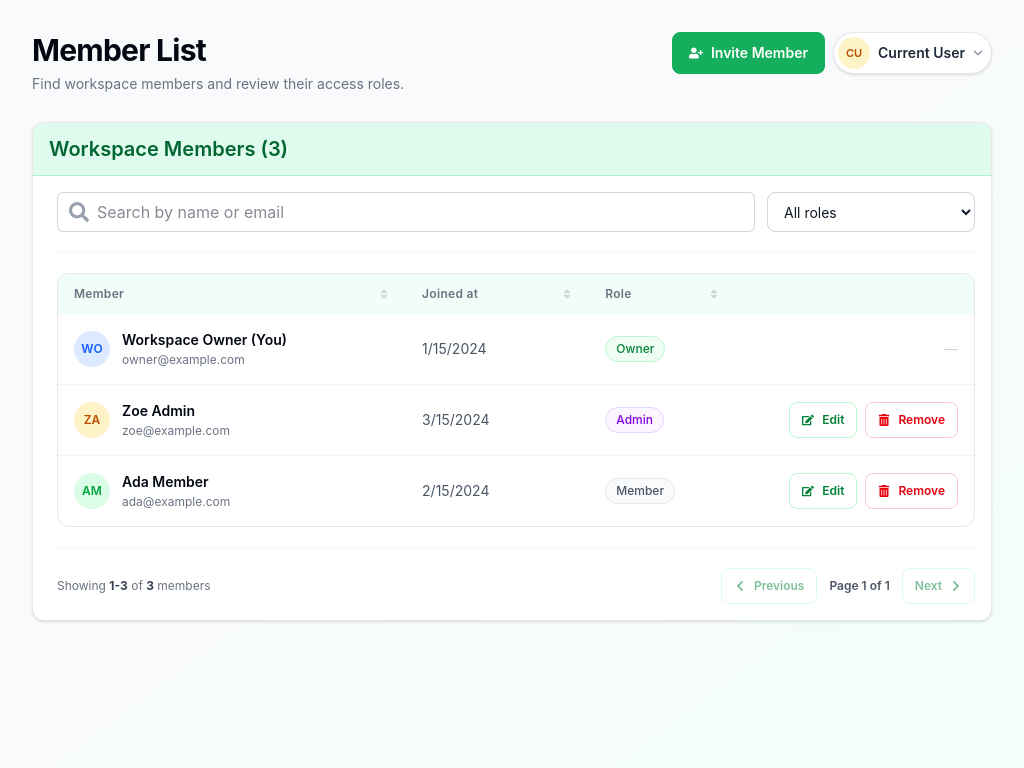
Test: Workspace members page › updates a member role, reports success, and refreshes the member list
Expected: the number of rows is 4, [58,274,974,314]; [58,314,974,384]; [58,384,974,456]; [58,456,974,526]
Click the button "Edit" in the row of "ZA" at (823, 420), box [789,402,857,438]
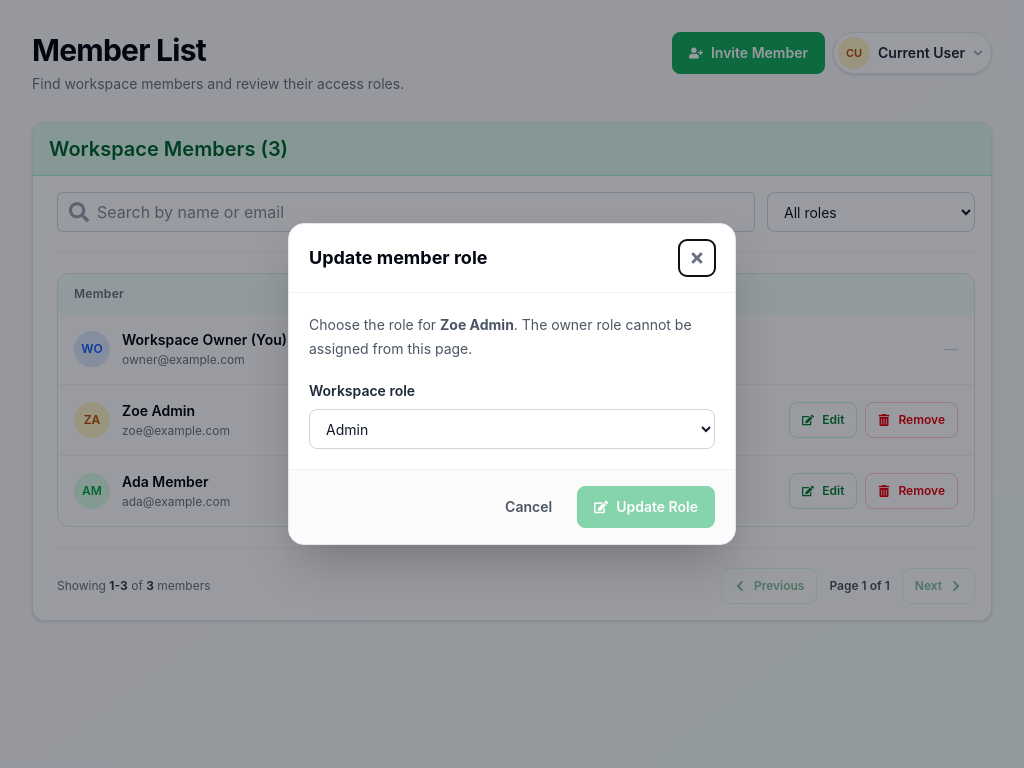
Expected: the button "Update Role" is disabled, [577,486,715,528]
Select "Member" in the dropdown labelled "Workspace role" at (512, 429), box [309,409,715,449]
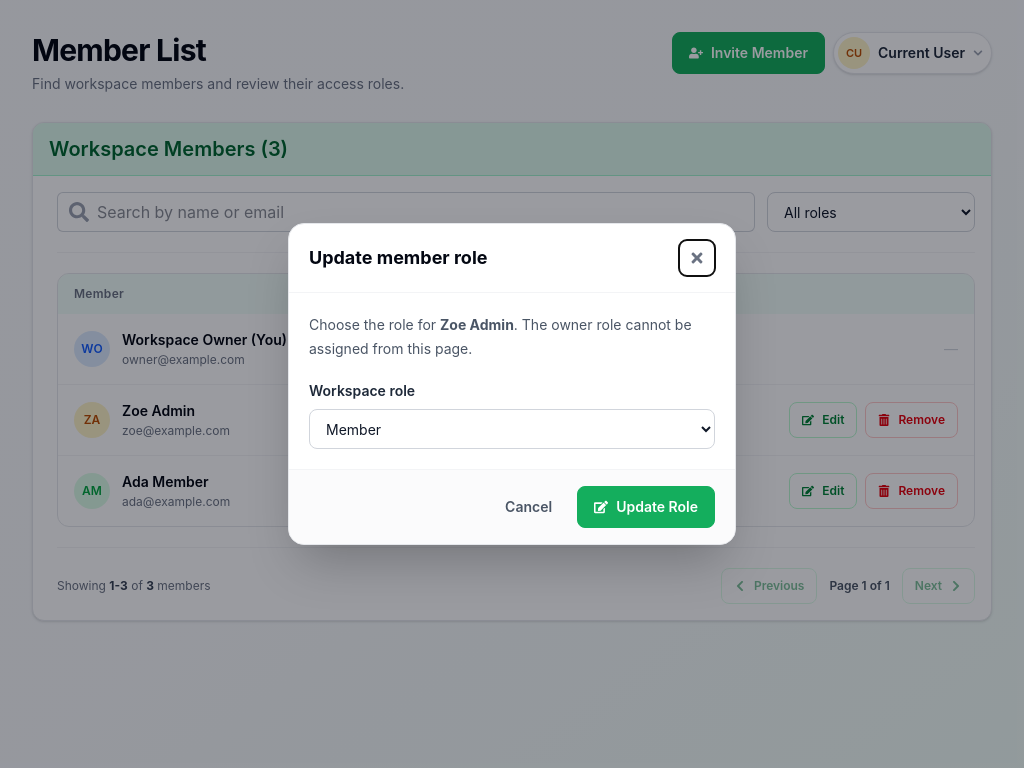
Click the button "Update Role" at (646, 507), box [577,486,715,528]
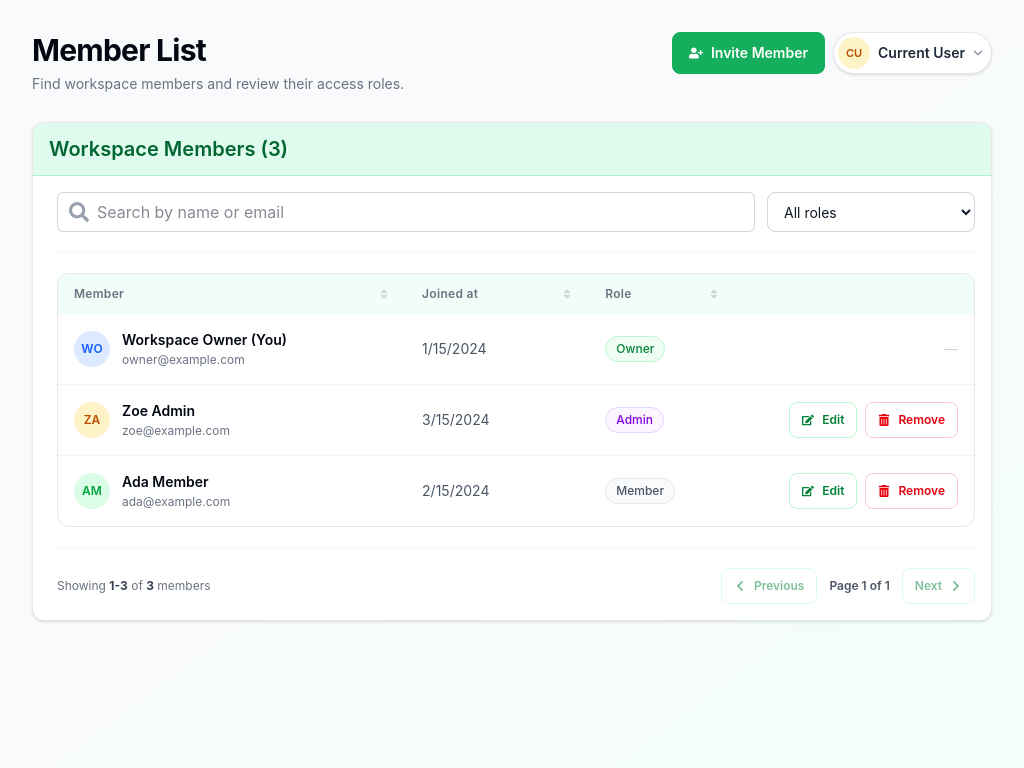
Expected: the heading "Update member role" is gone
